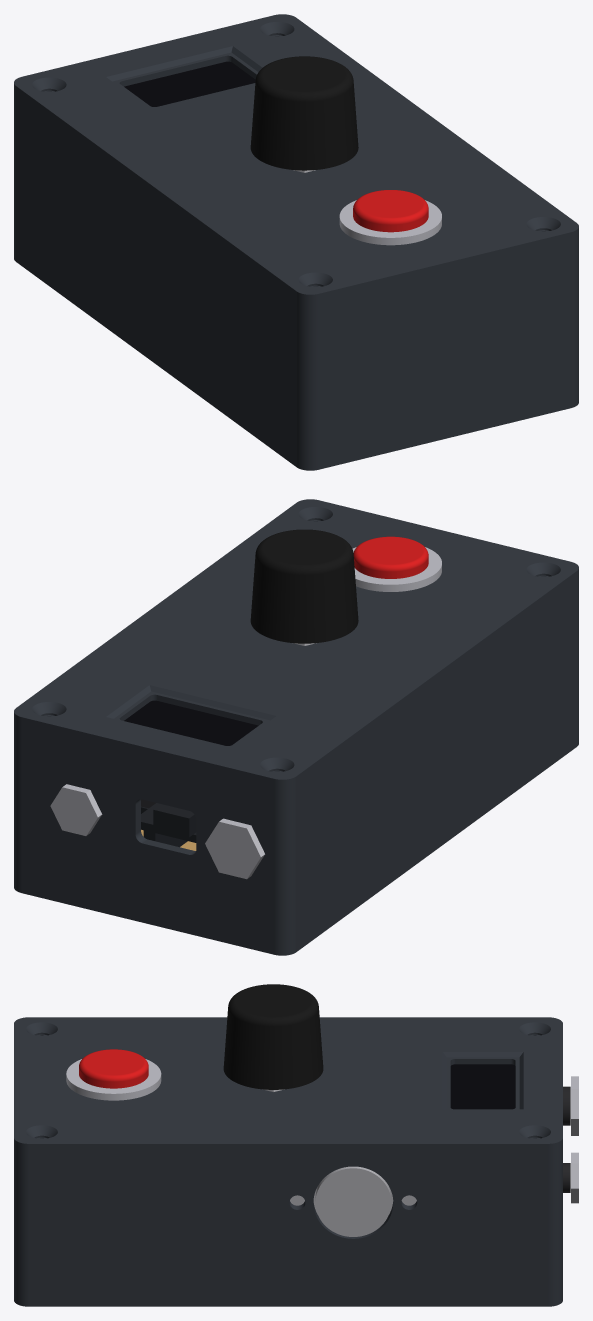
Rendered from assembly.glb.
3 renders of one model, top to bottom at view 1: azimuth 30°, elevation 25°; view 2: azimuth 150°, elevation 25°; view 3: azimuth 270°, elevation 25°, orthographic. The views are drawn at different scales.
Visible parts, largest first — view 1: tray, lid, knob, oled_glass, tap_cap, tap_body; view 2: tray, lid, knob, oled_glass, tap_cap, dc_nut, trs_nut, nano, tap_body; view 3: tray, lid, knob, midi_din, oled_glass, tap_cap, tap_body, dc_nut.
Boxes of the visible parts, x1,y1,x2,y2 form: tray: (14, 35, 578, 470); lid: (14, 14, 578, 304); knob: (250, 56, 358, 170); oled_glass: (124, 61, 255, 106); tap_cap: (353, 190, 428, 232); tap_body: (339, 200, 441, 245); tray: (14, 520, 578, 955); lid: (14, 499, 578, 789); knob: (250, 529, 358, 643); oled_glass: (124, 700, 258, 745); tap_cap: (353, 536, 428, 578); dc_nut: (205, 818, 264, 879); trs_nut: (50, 784, 102, 835); nano: (141, 803, 196, 842); tap_body: (352, 547, 441, 591); tray: (14, 1034, 562, 1306); lid: (14, 1017, 562, 1152); knob: (223, 984, 323, 1089); midi_din: (290, 1166, 416, 1236); oled_glass: (450, 1064, 515, 1109); tap_cap: (79, 1049, 148, 1088); tap_body: (66, 1059, 161, 1100); dc_nut: (571, 1076, 578, 1135).
Bounding box in the file's own units: 60 × 53.6 × 113.
